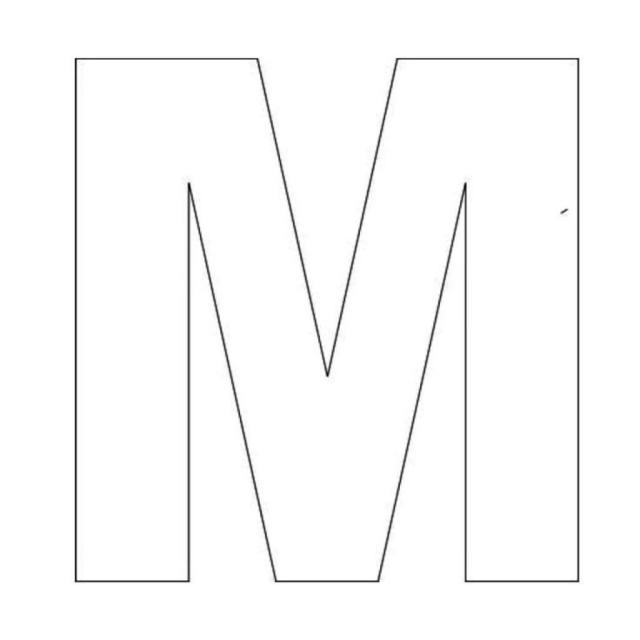M: (35, 18, 598, 588)
